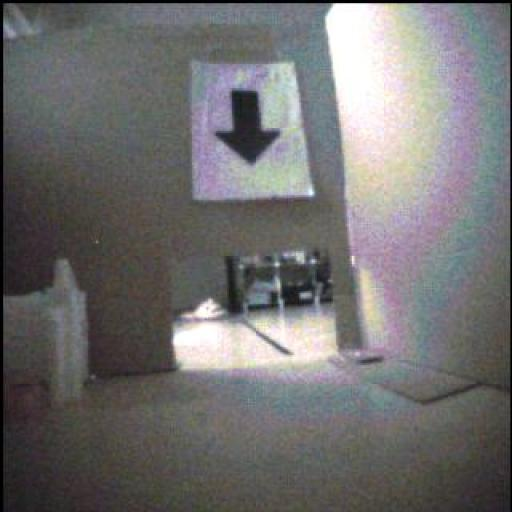arrow: (217, 91, 281, 166)
